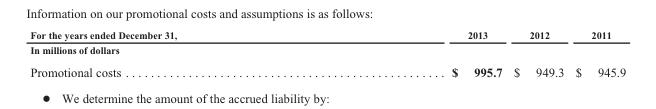table: (29, 28, 625, 78)
table column: (29, 28, 313, 78), (313, 28, 507, 78), (507, 28, 569, 78), (569, 28, 625, 78)
table column header: (29, 28, 625, 41)
table projected row header: (29, 41, 625, 59)
table row: (29, 59, 625, 78), (29, 41, 625, 59), (29, 28, 625, 41)
